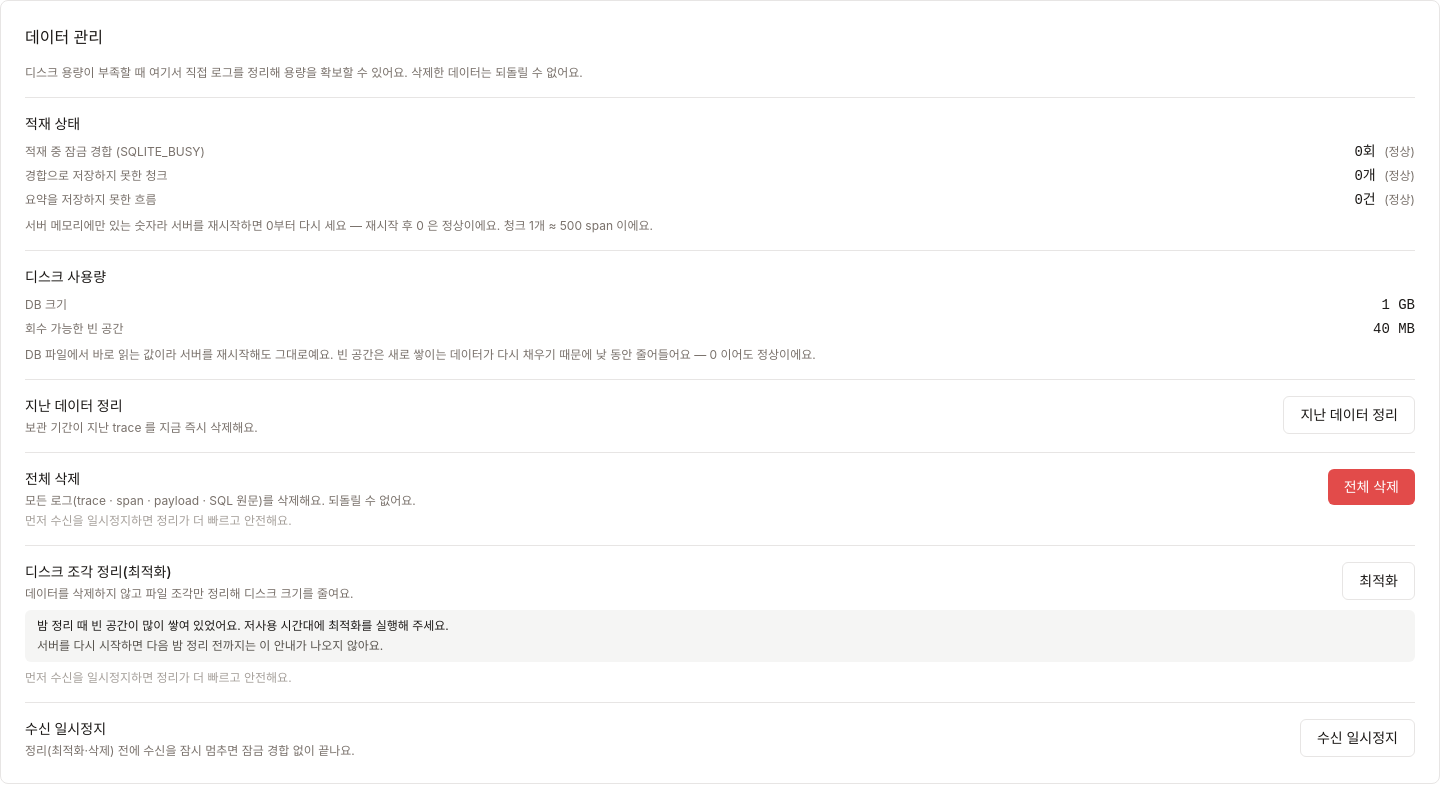
Test: DataManagementSection — [최적화] 권고 (R28/AC-28-05-10·11) › keepsTheBoxWhenOptimizeIsBusy
The image size is (1440, 810).
Expected: the text "밤 정리 때 빈 공간이 많이 쌓여 있었어요. 저사용 시간대에 최적화를 실행해 주세요." is shown, [37,618,449,633]
Click the button "최적화" at [1379, 581], box [1342,562,1415,600]
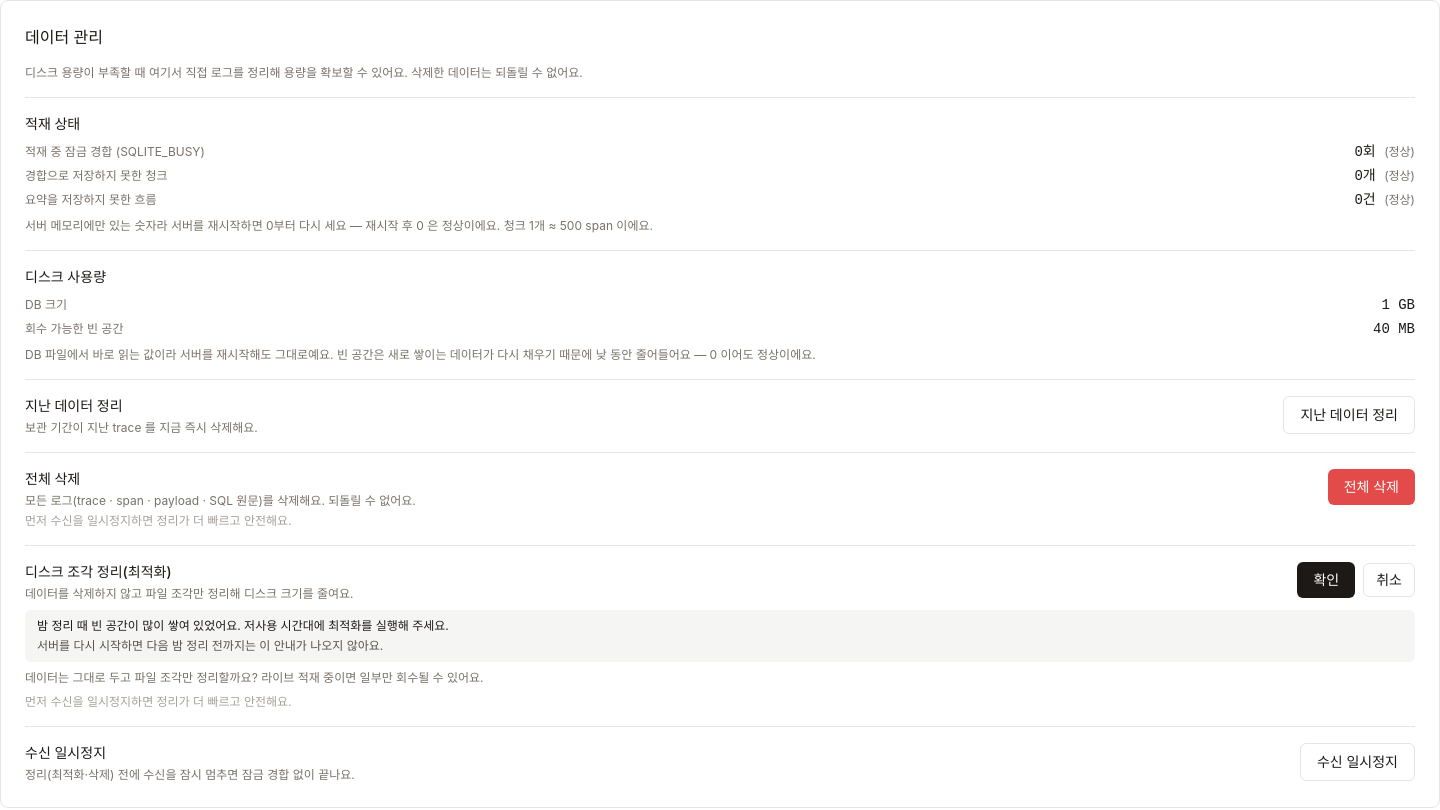
Click the button "확인" at [1326, 580], box [1298,562,1355,598]
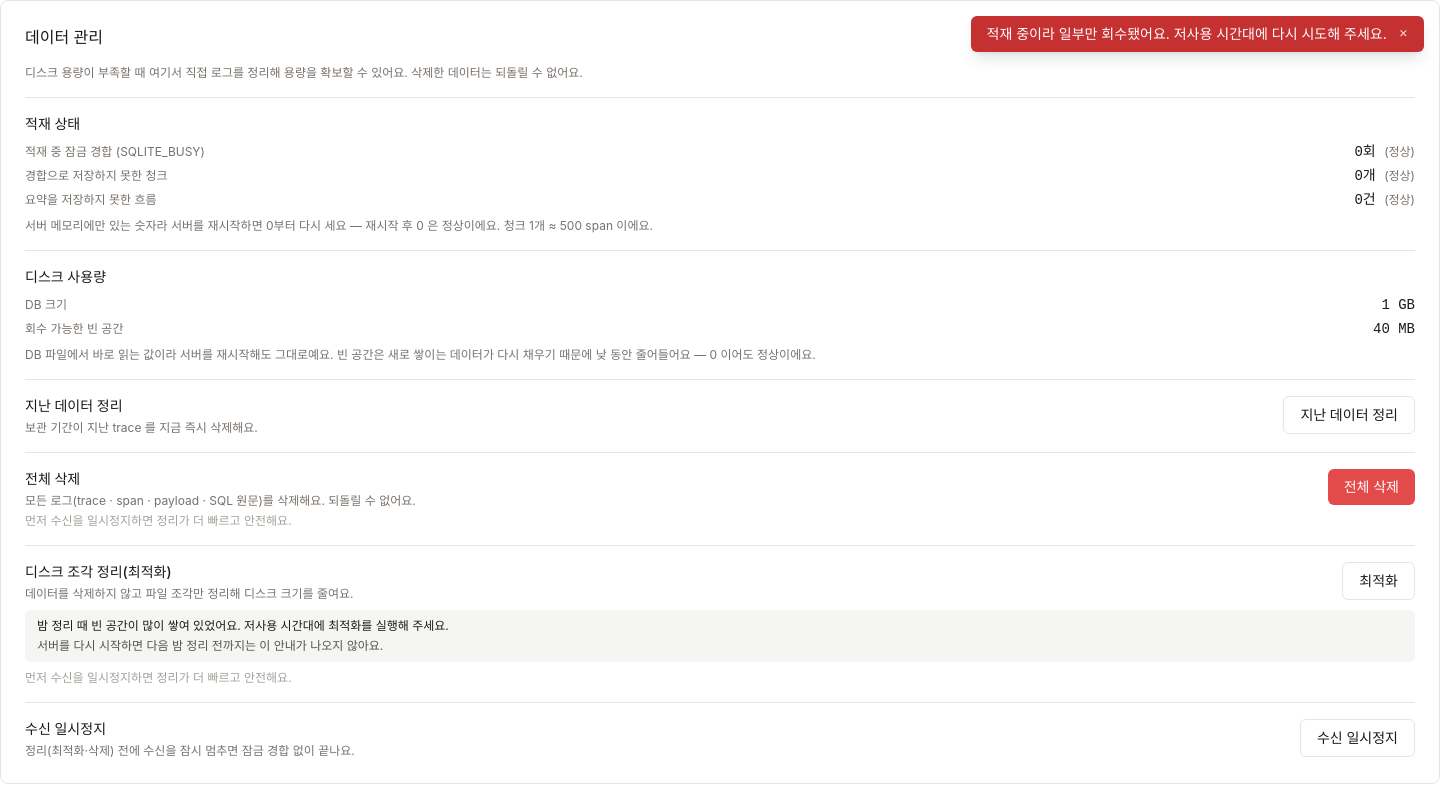
Expected: the message with test id "optimize-advice" is shown, [25,610,1415,662]
Result: the text "적재 중이라 일부만 회수됐어요. 저사용 시간대에 다시 시도해 주세요." is shown at [986,24,1387,44]
